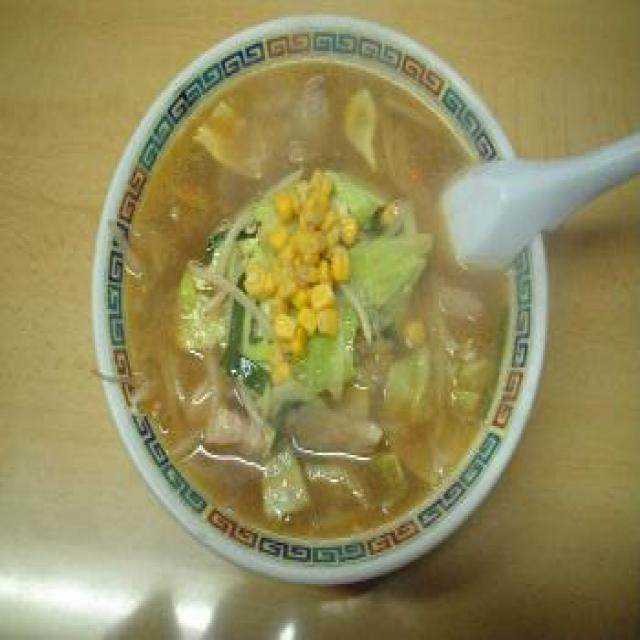面条主食: (76, 0, 559, 591)
